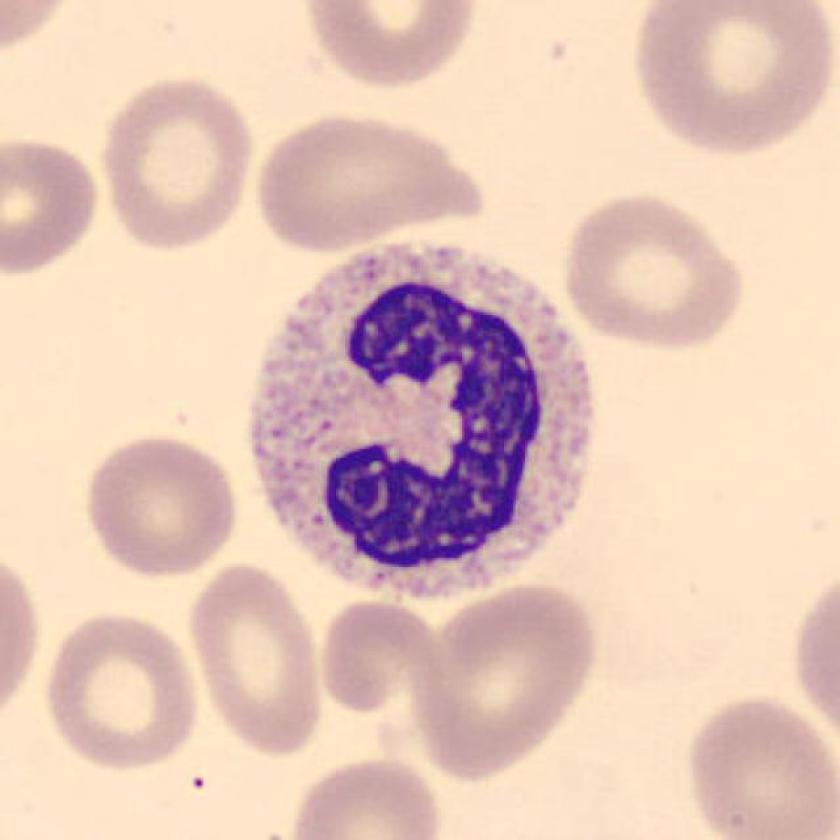neutrophil: (246, 248, 597, 597)
